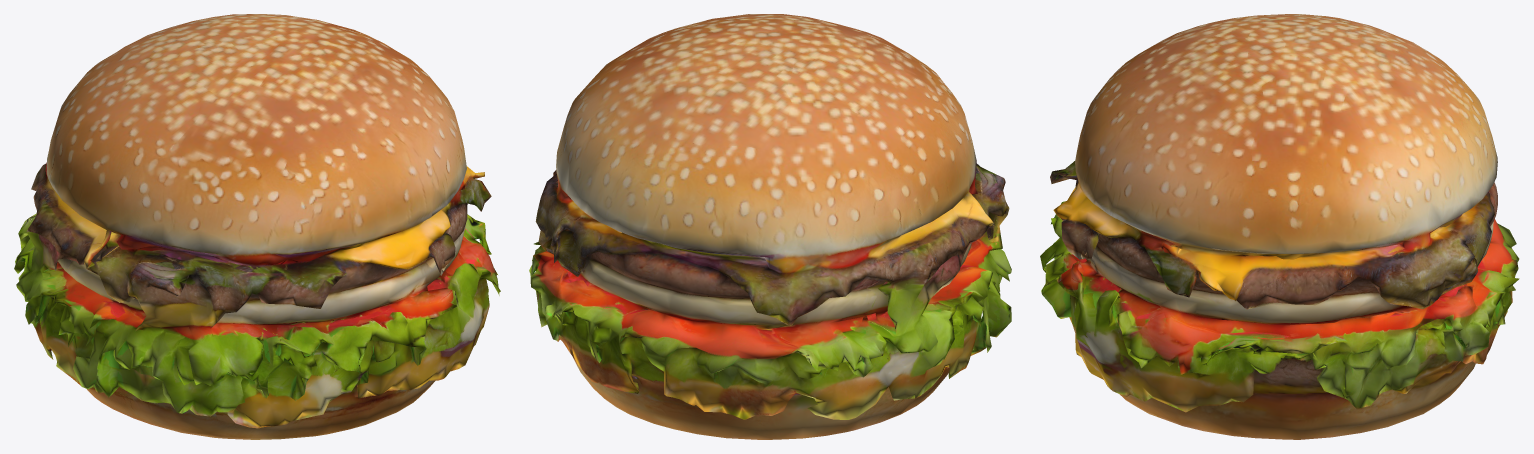
Rendered from asset.glb.
The picture shows the model from 3 angles, left to right: view 1: azimuth 30°, elevation 25°; view 2: azimuth 150°, elevation 25°; view 3: azimuth 270°, elevation 25°; orthographic projection.
Size of the model in its own units: 1.95 by 1.48 by 1.97.
Materials: 1 (1 with a texture image).
